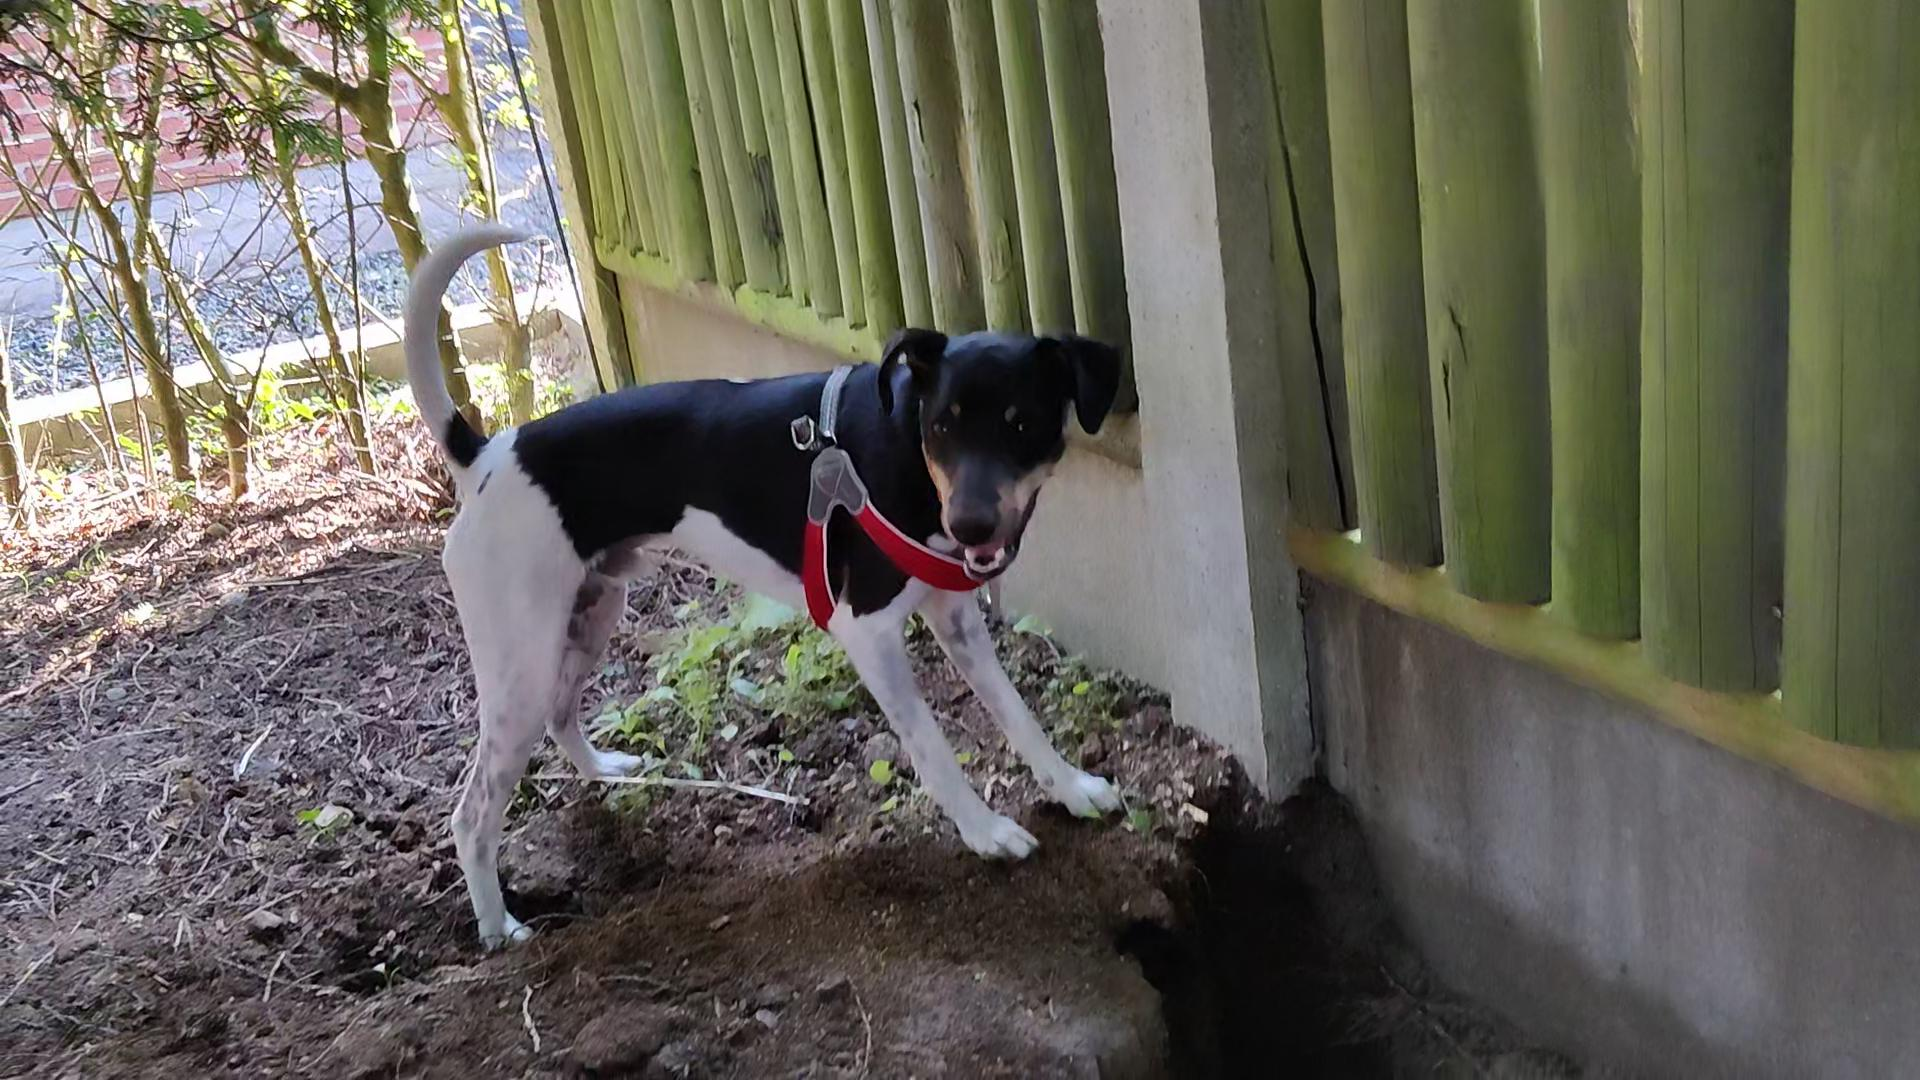Dog: (375, 202, 1146, 948)
